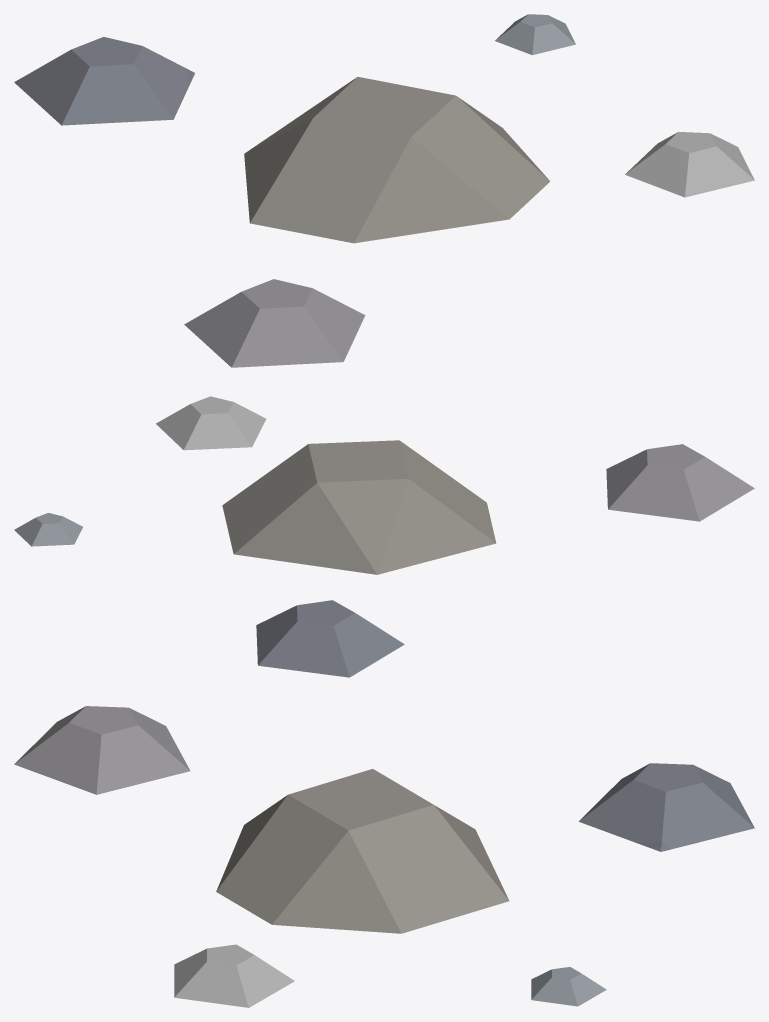
Rendered from Rocks_Round_s_01.fbx.
3 renders of one model, top to bottom at view 1: azimuth 30°, elevation 25°; view 2: azimuth 150°, elevation 25°; view 3: azimuth 270°, elevation 25°, orthographic. The views are drawn at different scales.
Visible parts, largest first — view 1: Rocks_Round_s_01; view 2: Rocks_Round_s_01; view 3: Rocks_Round_s_01.
Part boxes in pixels (x1=…): Rocks_Round_s_01: x1=14, y1=14, x2=754, y2=367; Rocks_Round_s_01: x1=14, y1=396, x2=754, y2=677; Rocks_Round_s_01: x1=14, y1=706, x2=754, y2=1007.
Bounding box in the file's own units: 50.76 × 5.67 × 55.43.
